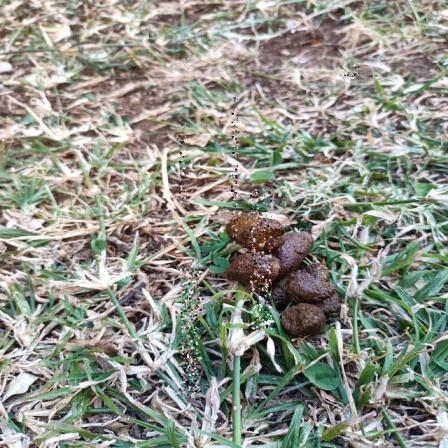dog-poop: (219, 205, 346, 336)
